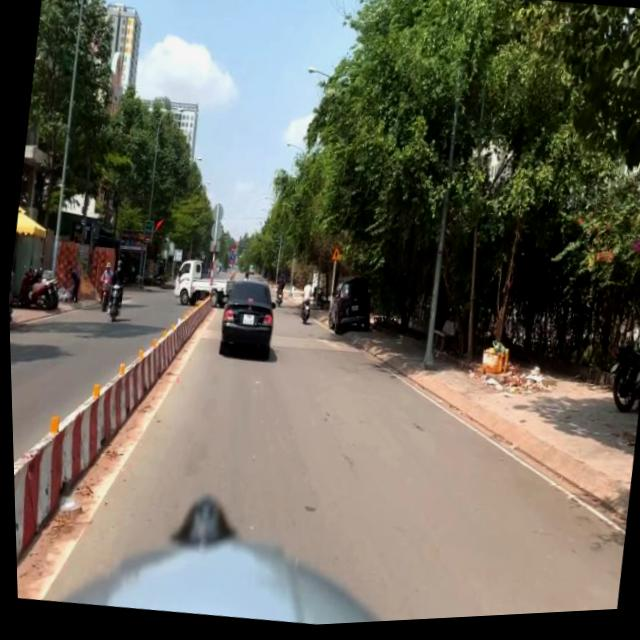Cam di nguoc chieu: (229, 248, 234, 255)
Giao nhau voi duong khong uu tien: (329, 250, 340, 266)
Vong chuong ngai vat sang phai: (228, 255, 233, 262)
